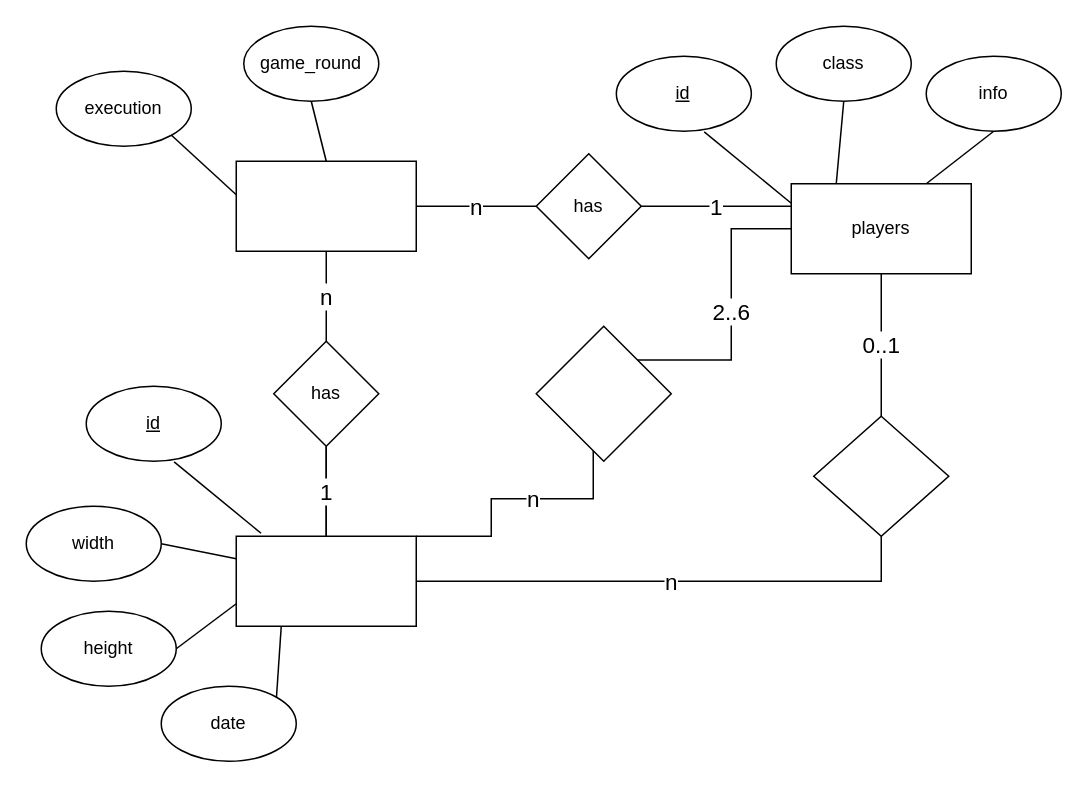
Some shapes in this 1088 by 788 pixel diagram are drawn without their labels. Here are the shapes that lost their labels. From the top down, the centre of each, then its label:
At pixel 325 205: "execution_times".
At pixel 603 393: "participates".
At pixel 880 475: "won".
At pixel 325 580: "games".
